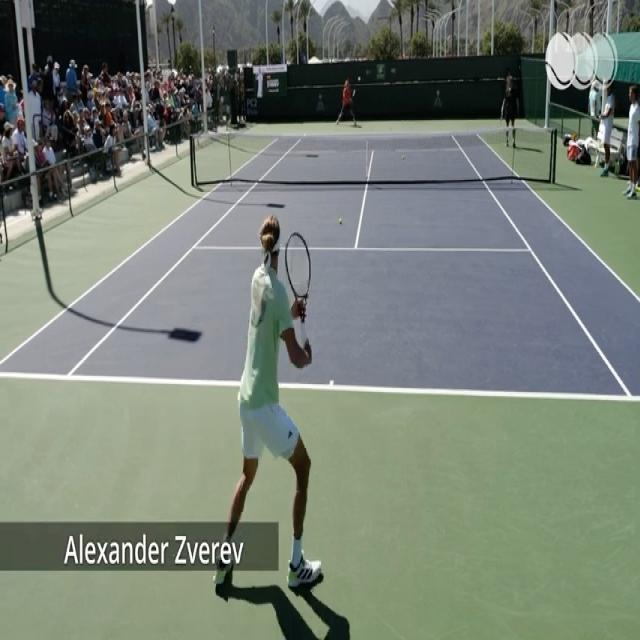forehand-ready: (225, 211, 325, 595)
